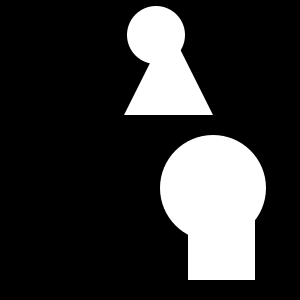circle: (188, 213, 255, 280)
rectangle: (160, 135, 266, 241), (127, 6, 185, 64)
triangle: (124, 26, 213, 115)
